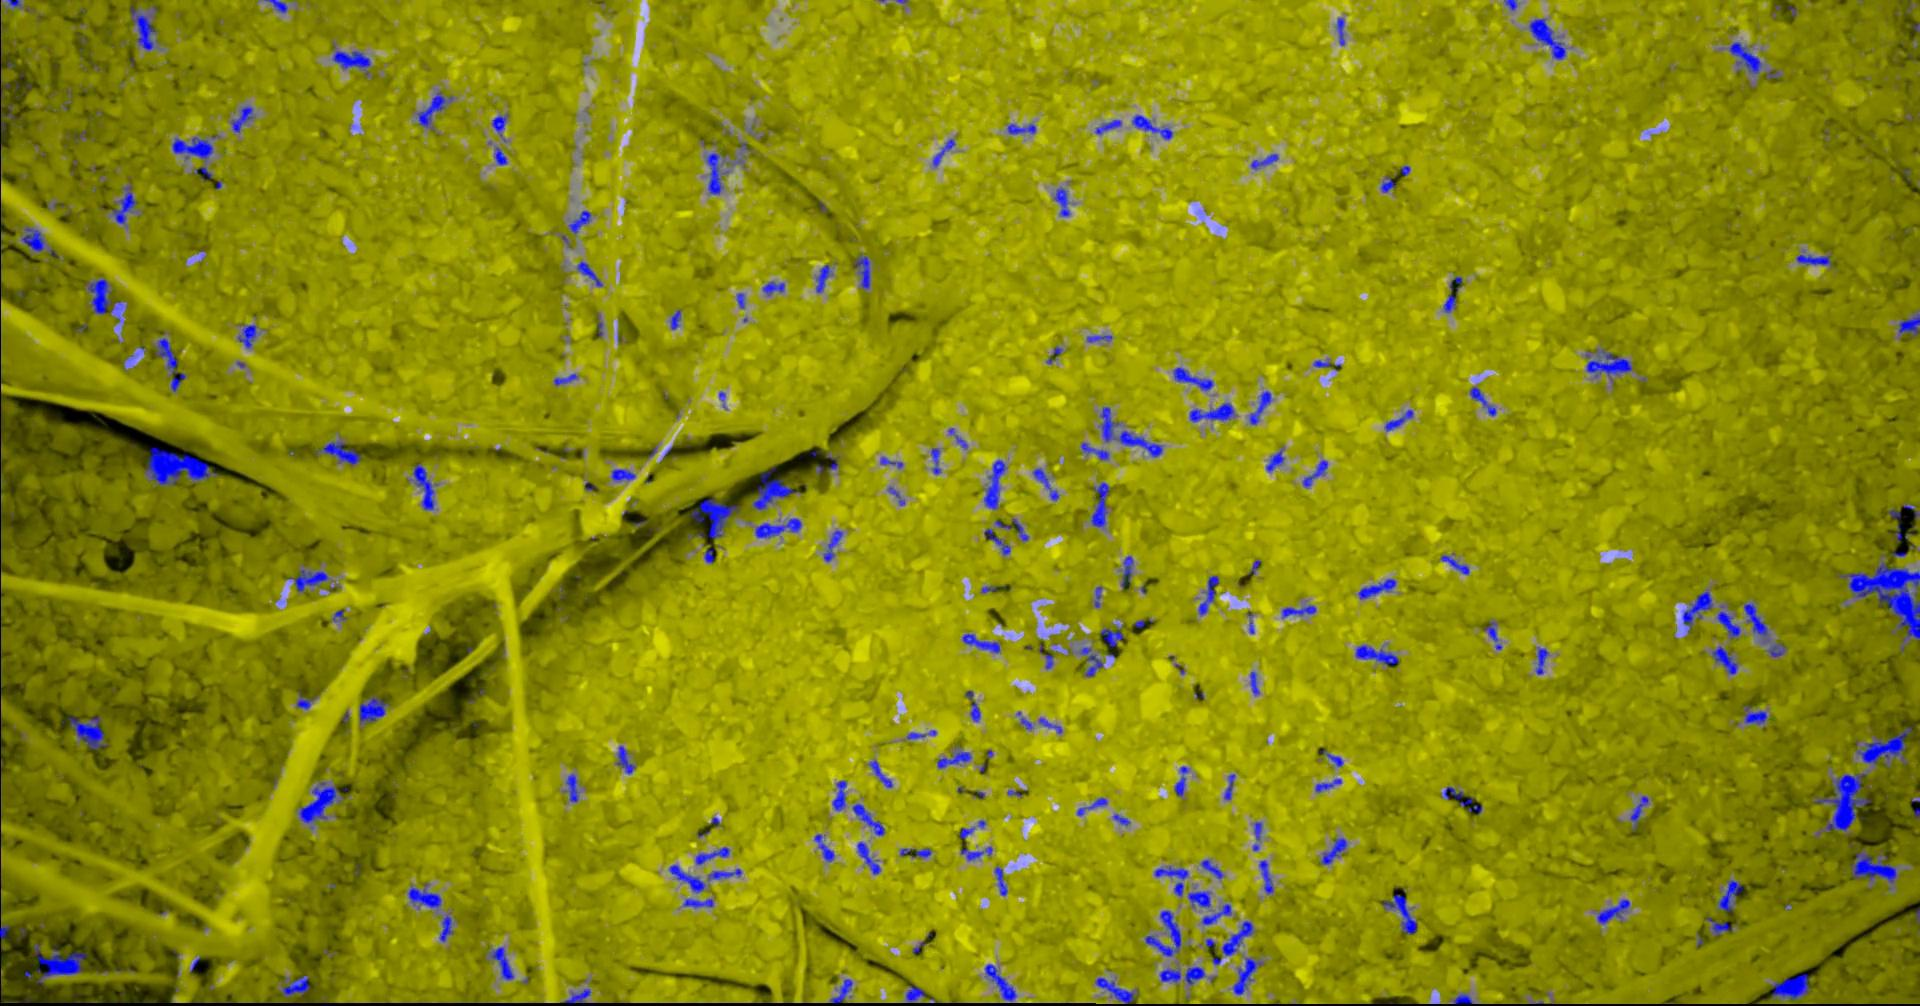ant: (1102, 406, 1164, 456), (36, 942, 88, 987), (1857, 727, 1912, 767), (298, 781, 345, 827), (688, 498, 740, 539), (754, 466, 801, 509), (1145, 909, 1182, 956), (156, 337, 187, 391), (1851, 848, 1898, 883), (1530, 18, 1568, 58), (1383, 893, 1418, 934), (279, 974, 330, 1002), (69, 715, 109, 749), (418, 91, 455, 127), (1587, 349, 1633, 377), (1684, 589, 1714, 631), (131, 5, 159, 50), (88, 278, 123, 312), (1096, 977, 1139, 1005), (985, 964, 1018, 1000), (985, 459, 1008, 509), (1223, 920, 1255, 955), (1234, 956, 1263, 995), (414, 464, 438, 509), (1443, 786, 1483, 813), (173, 136, 215, 161), (1730, 41, 1763, 72), (670, 864, 707, 892), (317, 441, 362, 464), (1773, 972, 1811, 998), (1133, 114, 1175, 138), (855, 803, 886, 835), (1156, 866, 1190, 895), (113, 185, 138, 225), (1, 79, 23, 124), (334, 50, 372, 75), (1745, 603, 1770, 641), (756, 517, 803, 537), (1175, 367, 1215, 390), (290, 569, 330, 592), (1034, 467, 1060, 500), (1357, 644, 1399, 664), (1191, 401, 1236, 420), (1092, 481, 1111, 526), (1718, 605, 1742, 639), (1359, 578, 1397, 600), (1161, 967, 1206, 984), (1719, 879, 1745, 911), (707, 152, 726, 194), (858, 841, 883, 874), (409, 883, 442, 907), (1597, 899, 1630, 923), (491, 946, 516, 979), (1250, 390, 1272, 424), (938, 746, 973, 768), (1470, 386, 1497, 415), (1200, 575, 1220, 614), (361, 696, 389, 723), (1321, 837, 1349, 864), (996, 518, 1030, 540), (963, 633, 1001, 652), (985, 528, 1012, 555), (1304, 459, 1330, 486), (1713, 647, 1738, 674), (1445, 276, 1464, 312), (578, 260, 604, 286), (870, 760, 894, 788), (1081, 647, 1103, 676), (1632, 795, 1650, 832), (935, 138, 957, 166), (1385, 409, 1415, 431), (1203, 903, 1233, 923), (697, 846, 731, 864), (832, 978, 855, 1005), (825, 530, 844, 561), (1443, 553, 1470, 574), (855, 253, 871, 288), (23, 226, 46, 251), (1078, 796, 1109, 815), (232, 105, 254, 132), (1484, 621, 1503, 649), (618, 746, 637, 774), (817, 833, 836, 861), (1707, 916, 1735, 935), (570, 210, 593, 232), (1260, 859, 1275, 893), (963, 843, 993, 860), (563, 988, 593, 1005), (817, 264, 834, 292), (1900, 312, 1920, 337), (239, 323, 258, 348), (966, 690, 982, 721), (1283, 605, 1317, 619), (833, 780, 848, 810), (1252, 152, 1280, 169), (1082, 442, 1110, 459), (1055, 187, 1070, 216), (1176, 765, 1190, 796), (1267, 448, 1286, 471), (1123, 555, 1135, 589), (1102, 627, 1125, 647), (1203, 859, 1225, 878), (950, 427, 969, 448), (996, 866, 1010, 895), (1745, 705, 1768, 723), (1040, 716, 1064, 733), (1798, 254, 1832, 265), (709, 868, 743, 879), (1537, 647, 1550, 674), (568, 774, 582, 801), (1316, 779, 1343, 793), (493, 114, 509, 137), (1189, 890, 1211, 907), (441, 915, 455, 941), (1322, 749, 1343, 766), (1097, 119, 1123, 133), (298, 692, 319, 709), (907, 984, 927, 1001), (908, 729, 938, 739), (613, 469, 637, 481), (764, 281, 786, 295), (1008, 123, 1037, 133), (1048, 345, 1064, 363), (1225, 774, 1237, 799), (1316, 359, 1343, 370), (265, 0, 290, 11), (555, 373, 579, 385), (932, 447, 942, 474), (684, 898, 715, 907), (881, 456, 904, 467), (1255, 821, 1263, 850), (1382, 175, 1397, 192), (1895, 523, 1909, 541), (1251, 671, 1261, 695), (1454, 993, 1474, 1005), (196, 166, 213, 179), (1769, 643, 1787, 655), (497, 146, 508, 165), (1338, 17, 1346, 44), (1115, 813, 1131, 826), (672, 309, 682, 329), (913, 847, 933, 857), (961, 827, 977, 840), (334, 608, 348, 621), (1, 922, 11, 939), (1096, 586, 1103, 607), (1088, 335, 1112, 342), (1046, 653, 1055, 669), (705, 547, 715, 561), (1505, 0, 1517, 10), (738, 292, 745, 307), (1, 500, 3, 572)
